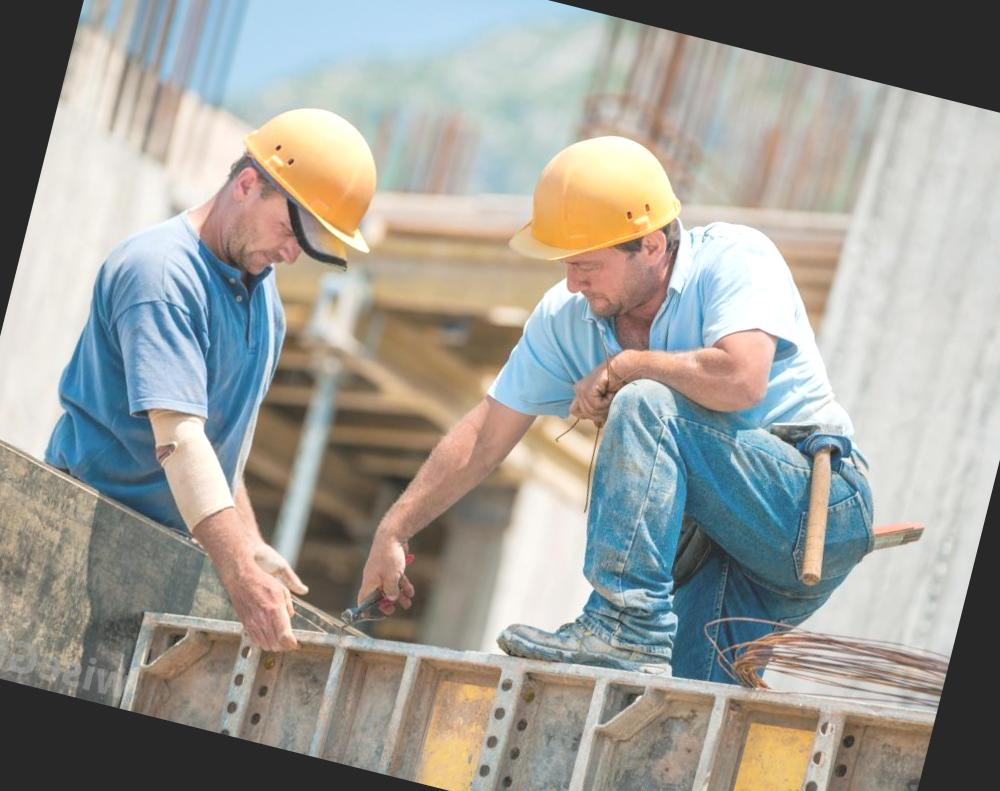helmet: (499, 114, 692, 297), (230, 99, 408, 264)
no_vest: (502, 186, 854, 487), (28, 229, 302, 549)
person: (336, 90, 962, 729), (5, 53, 434, 651)
